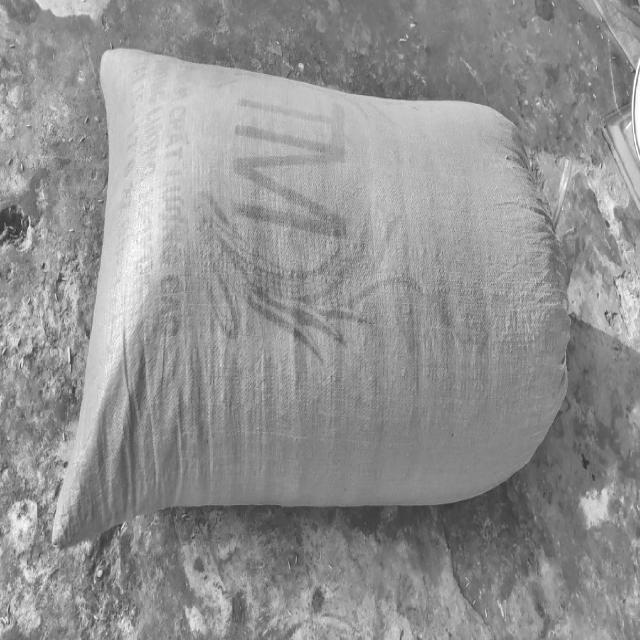gunny_bag: (51, 50, 570, 545)
